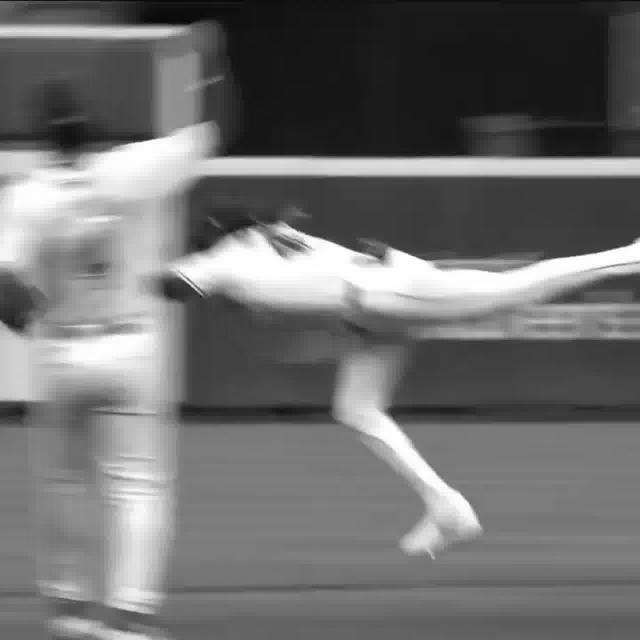shoe: (392, 500, 469, 565), (113, 612, 174, 637)
